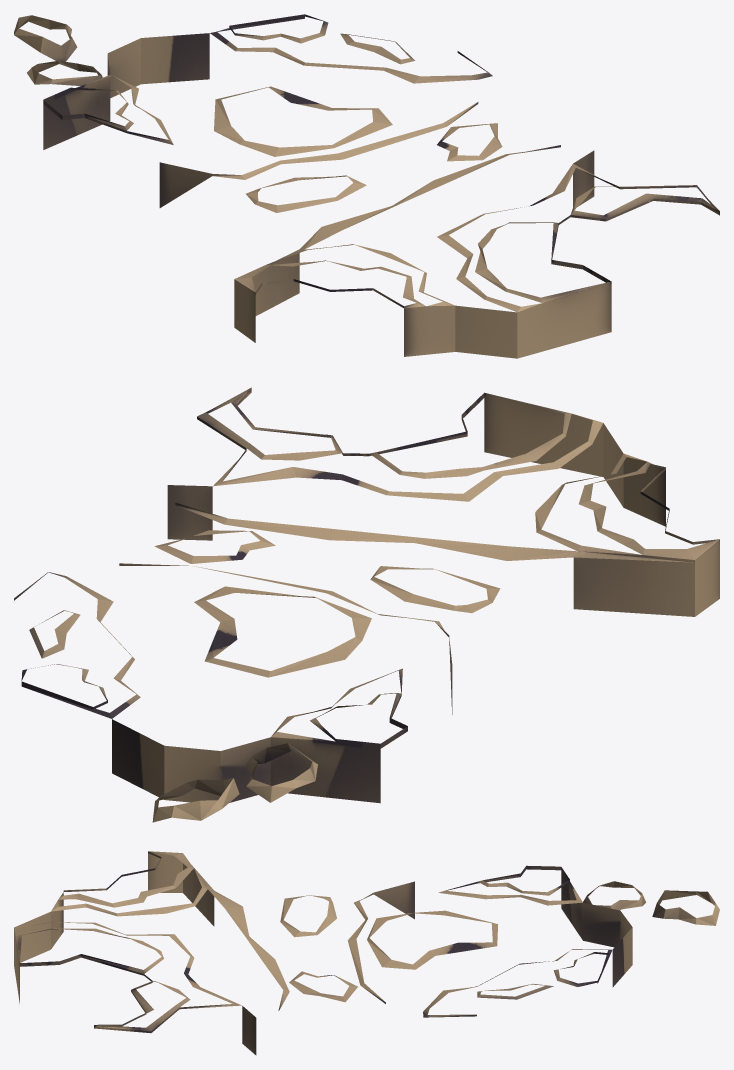
File: Ground_02.FBX
3 renders of one model, top to bottom at view 1: azimuth 30°, elevation 25°; view 2: azimuth 150°, elevation 25°; view 3: azimuth 270°, elevation 25°, orthographic. The views are drawn at different scales.
Visible parts, largest first — view 1: Ground_02; view 2: Ground_02; view 3: Ground_02.
Boxes of the visible parts, bbox=[...] form: Ground_02: bbox=[14, 14, 719, 358]; Ground_02: bbox=[14, 387, 719, 822]; Ground_02: bbox=[14, 851, 719, 1055].
Size of the model in its own units: 20.83 by 2.35 by 34.85.
